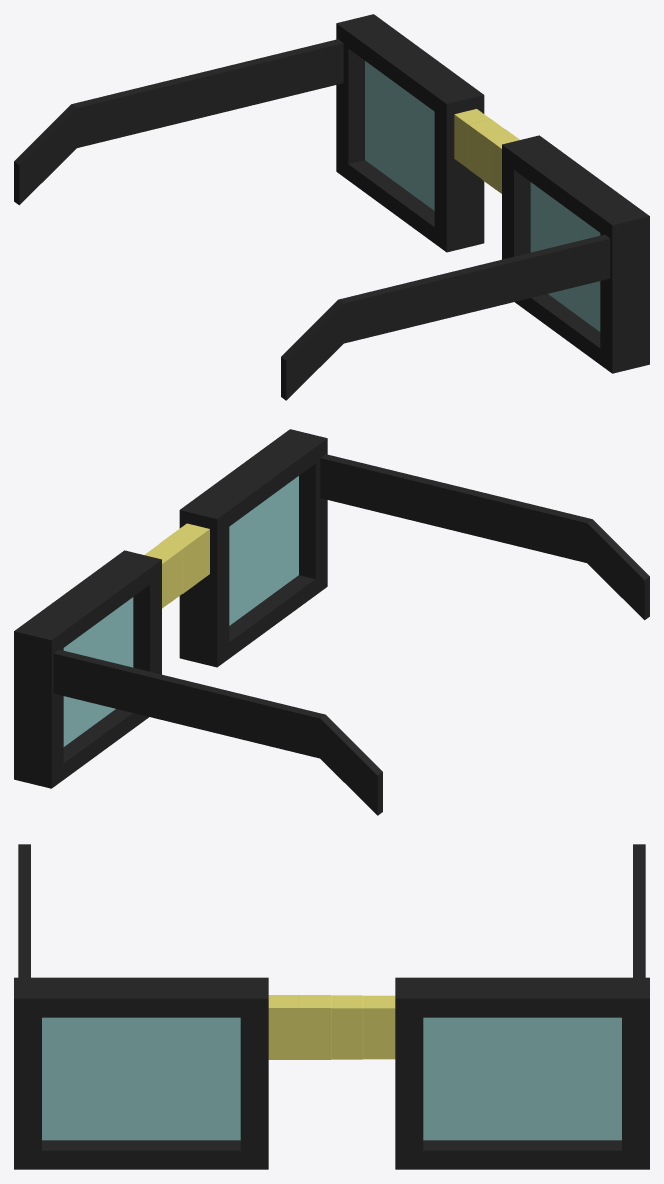
File: Lunettes.glb
3 renders of one model, top to bottom at view 1: azimuth 30°, elevation 25°; view 2: azimuth 150°, elevation 25°; view 3: azimuth 270°, elevation 25°, orthographic. The views are drawn at different scales.
Parts seen in each view (by area): view 1: Lunettes; view 2: Lunettes; view 3: Lunettes.
Boxes of the visible parts, x1=… form: Lunettes: x1=14, y1=14, x2=649, y2=400; Lunettes: x1=14, y1=429, x2=649, y2=815; Lunettes: x1=14, y1=844, x2=649, y2=1169.
Bounding box in the file's own units: 0.1308 × 0.0513 × 0.173.
